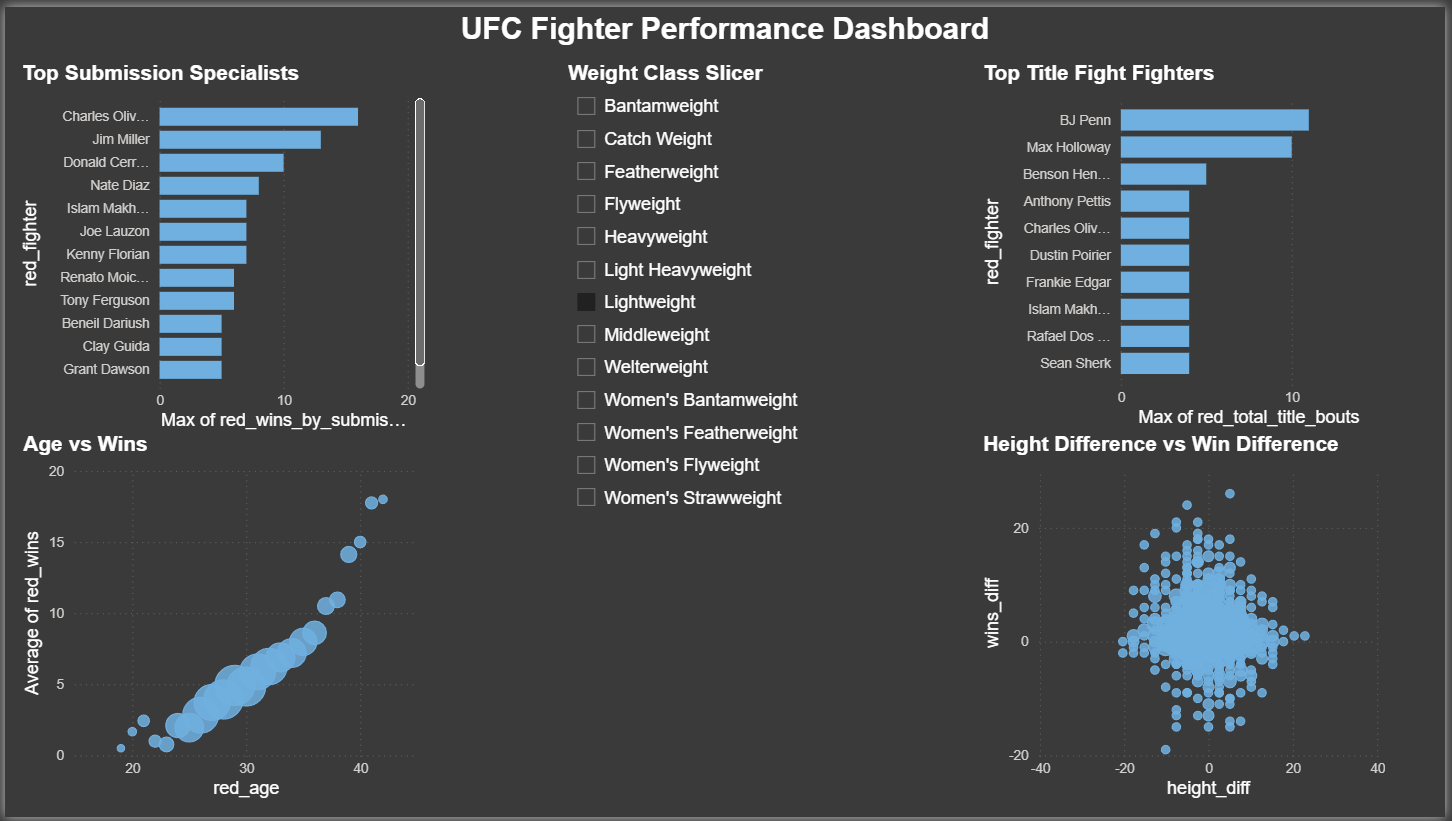

What the dashboard file says about the page in this screenshot:
{"tool":"powerbi","page":{"name":"UFC Fighter Performance","canvas":[1280,720],"ordinal":2},"visuals":[{"type":"textbox","box":[10.2,0,1260.1,47.4],"z":0},{"type":"clusteredBarChart","title":"Top Submission Specialists","fields":{"Category":["all_fights.red_fighter"],"Y":["Max(all_fights.red_wins_by_submission)"]},"box":[10.2,47.4,368.1,333.1],"z":1000},{"type":"clusteredBarChart","title":"Top Title Fight Fighters","fields":{"Category":["all_fights.red_fighter"],"Y":["Max(all_fights.red_total_title_bouts)"]},"box":[864,47.7,367.4,330.2],"z":1001},{"type":"scatterChart","title":"Age vs Wins","fields":{"X":["all_fights.red_age"],"Y":["Avg(all_fights.red_wins)"],"Size":["CountNonNull(all_fights.red_fighter)"]},"box":[11.6,377.9,367.4,330.2],"z":1002},{"type":"scatterChart","title":"Height Difference vs Win Difference","fields":{"X":["all_fights.height_diff"],"Y":["all_fights.wins_diff"],"Size":["CountNonNull(all_fights.red_wins)"]},"box":[864,377.9,367.4,330.2],"z":1003},{"type":"slicer","title":"Weight Class Slicer","fields":{"Values":["all_fights.weight_class"]},"box":[495.4,47.7,259.3,498.8],"z":1004}]}

Visuals, with their boxes in screenshot pixels (x1, y1, x2, y2), scaled from the page's 1280x720 canvas onto the 1452x821 screenshot:
textbox: 12,0,1441,54
"Top Submission Specialists" clusteredBarChart: 12,54,429,434
"Top Title Fight Fighters" clusteredBarChart: 980,54,1397,431
"Age vs Wins" scatterChart: 13,431,430,807
"Height Difference vs Win Difference" scatterChart: 980,431,1397,807
"Weight Class Slicer" slicer: 562,54,856,623
